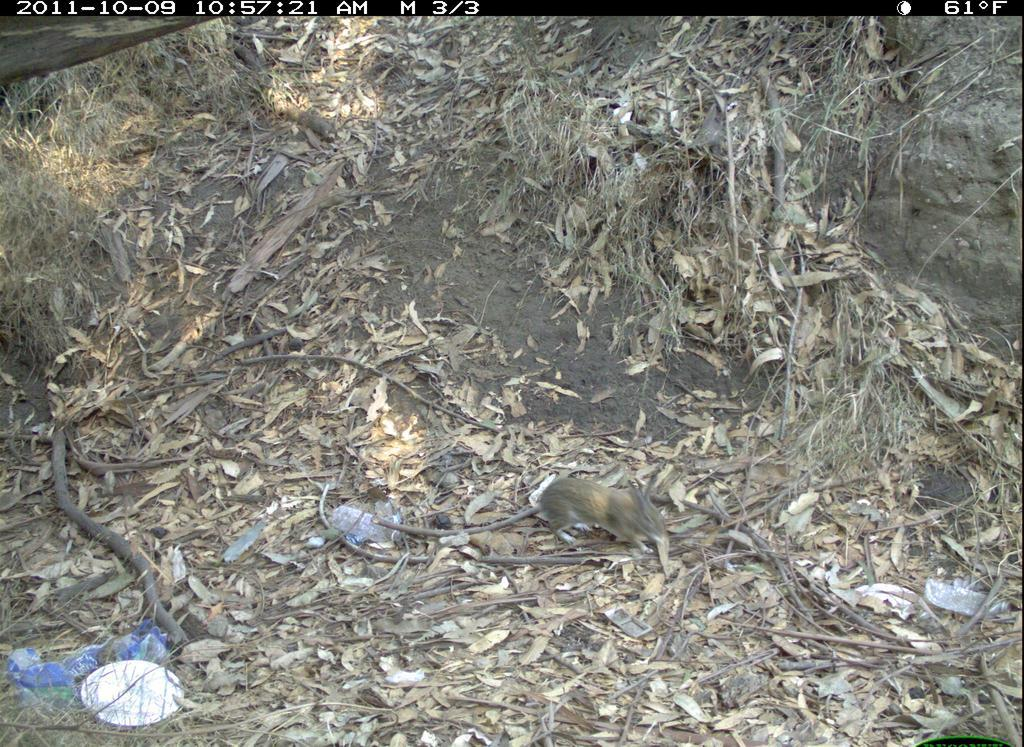rabbit: (536, 470, 676, 560)
